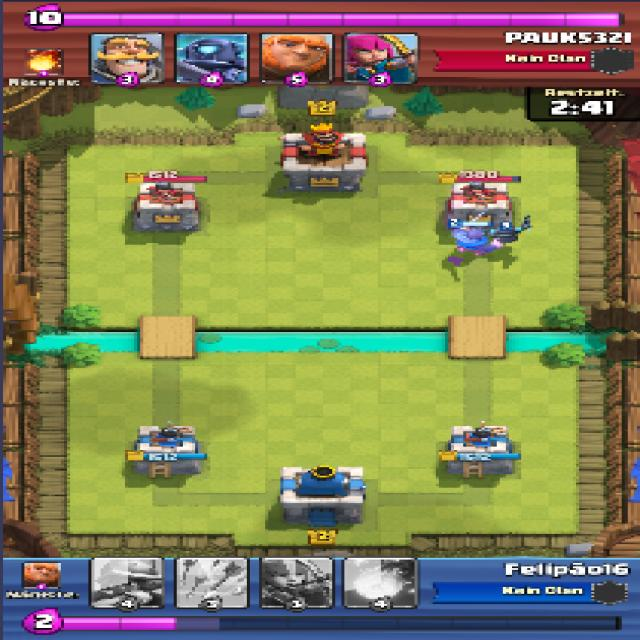Player-Knight: (450, 230, 503, 252)
Player-MiniPEKKA: (495, 225, 518, 243)
